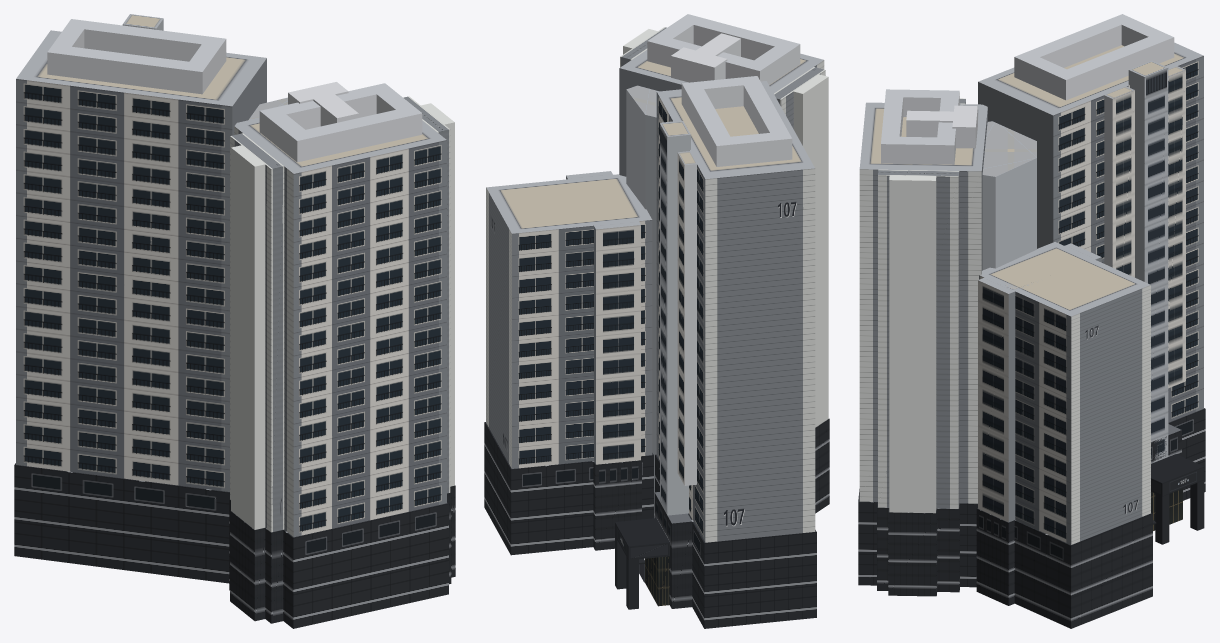
The model's file is 3D_place_107.glb.
3 renders of one model, left to right at view 1: azimuth 30°, elevation 25°; view 2: azimuth 150°, elevation 25°; view 3: azimuth 270°, elevation 25°, orthographic. The views are drawn at different scales.
Parts seen in each view (by area): view 1: KumhoParkHills_107; view 2: KumhoParkHills_107, Dong107_PhotoMatched_Entrance; view 3: KumhoParkHills_107, Dong107_PhotoMatched_Entrance.
Boxes of the visible parts, box(x1,y1,x2,y2) form: KumhoParkHills_107: box(14, 14, 455, 628); KumhoParkHills_107: box(484, 14, 829, 628); Dong107_PhotoMatched_Entrance: box(615, 518, 669, 609); KumhoParkHills_107: box(858, 14, 1205, 628); Dong107_PhotoMatched_Entrance: box(1151, 454, 1204, 544).
Size of the model in its own units: 45.2 by 56.05 by 38.67.
Materials: 44 (21 with a texture image).
